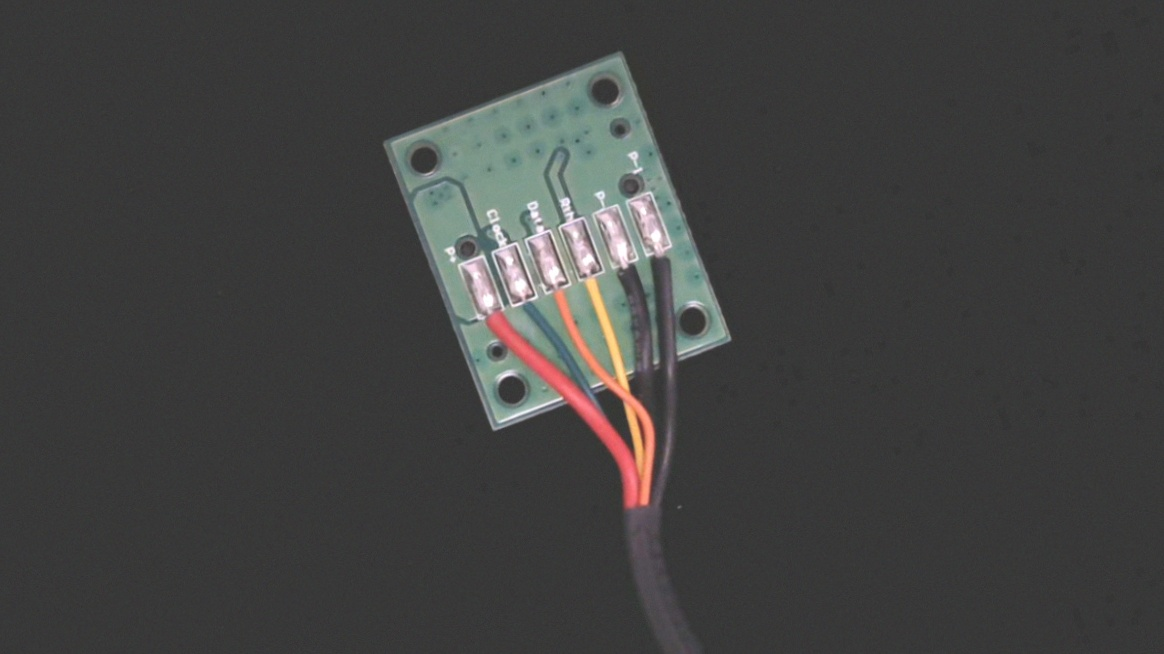Black: (606, 243, 655, 314)
Black1: (640, 232, 691, 302)
Green: (508, 284, 552, 346)
Orange: (538, 265, 590, 339)
Red: (475, 296, 522, 356)
Yellow: (572, 256, 622, 325)
